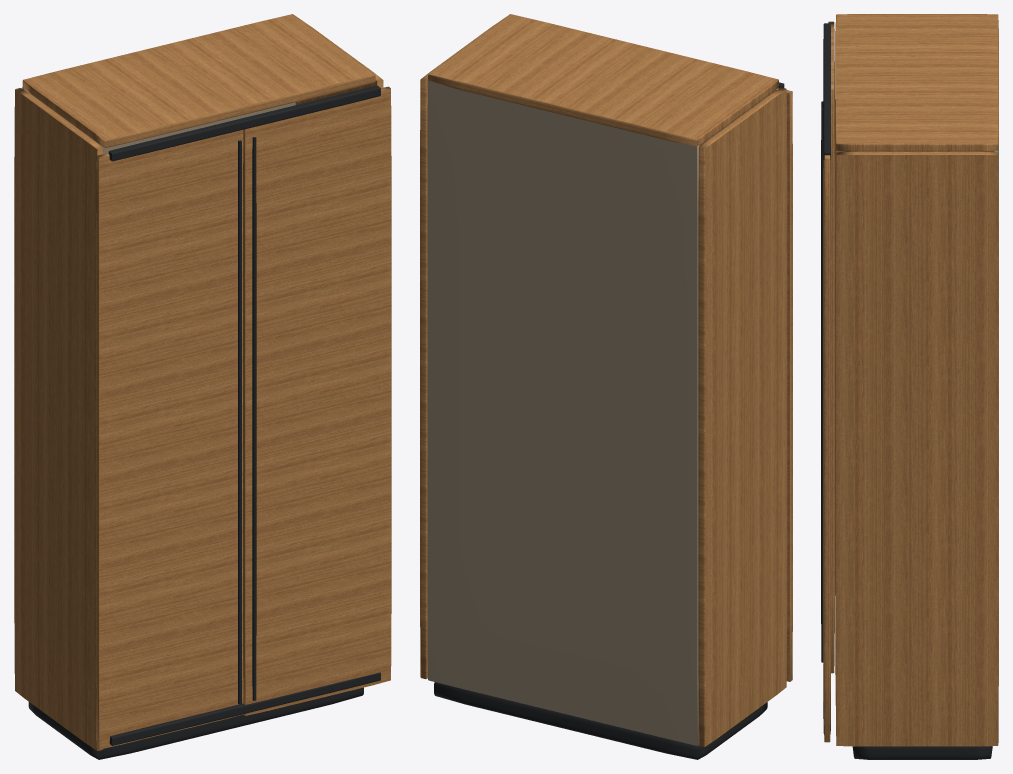
The model's file is wardrobe.glb.
The picture shows the model from 3 angles, left to right: view 1: azimuth 30°, elevation 25°; view 2: azimuth 150°, elevation 25°; view 3: azimuth 270°, elevation 25°; orthographic projection.
Visible parts, largest first — view 1: door_right, door_left, left_side, top, plinth, upper_track, pull_right, lower_track, pull_left, back; view 2: back, left_side, top, right_side, plinth, door_left; view 3: right_side, top, door_right, door_left, plinth, pull_right, upper_track.
Part boxes in pixels (box(x1,y1,x2,y2)): door_right: box(243, 86, 391, 715); door_left: box(96, 130, 243, 749); left_side: box(14, 88, 103, 750); top: box(22, 14, 375, 148); plinth: box(28, 687, 363, 759); upper_track: box(108, 85, 380, 161); pull_right: box(252, 137, 256, 700); lower_track: box(109, 672, 380, 745); pull_left: box(238, 140, 241, 704); back: box(22, 87, 295, 153); back: box(427, 81, 699, 745); left_side: box(698, 87, 787, 746); top: box(428, 14, 778, 146); right_side: box(420, 25, 493, 679); plinth: box(434, 682, 767, 759); door_left: box(699, 88, 792, 681); right_side: box(835, 151, 998, 746); top: box(835, 14, 998, 151); door_right: box(823, 155, 830, 742); door_left: box(828, 21, 835, 673); plinth: box(852, 746, 992, 759); pull_right: box(821, 108, 823, 662); upper_track: box(823, 23, 830, 159).
Bounding box in the file's own units: 1.21 × 2.51 × 0.653.
3 materials, 1 textured.
